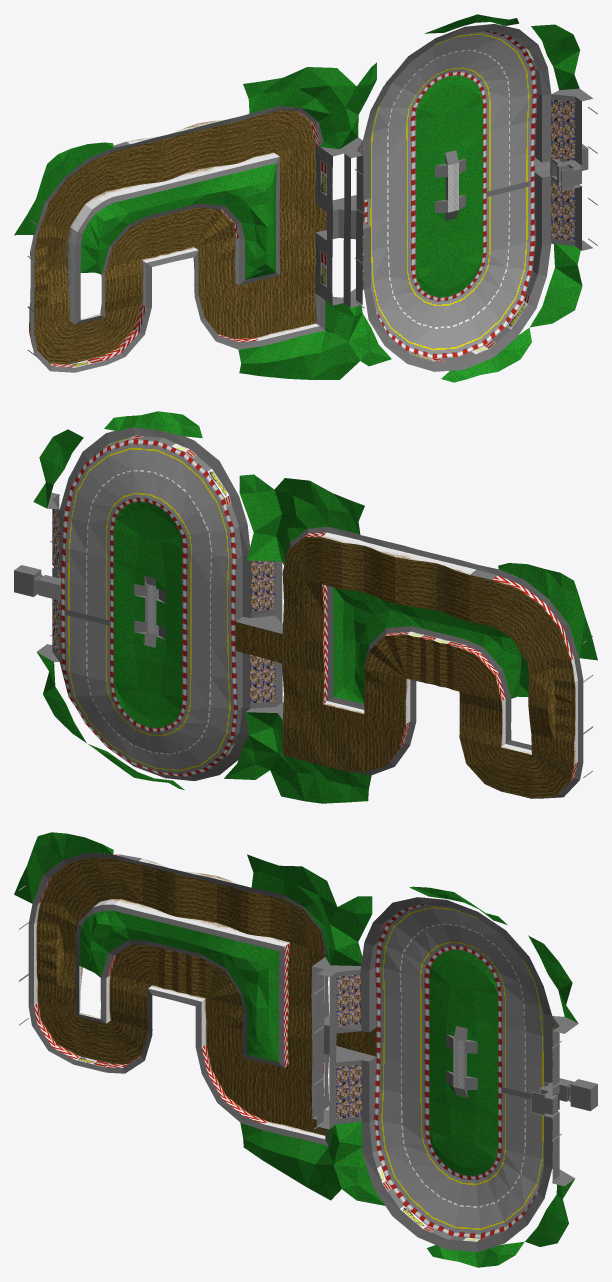
File: TSTK.GDB.obj
3 views of the same model, one above another, from view 1: azimuth 30°, elevation 25°; view 2: azimuth 150°, elevation 25°; view 3: azimuth 330°, elevation 25° (orthographic).
Size of the model in its own units: 1029 by 629 by 113.
Materials: 12 (11 with a texture image).
